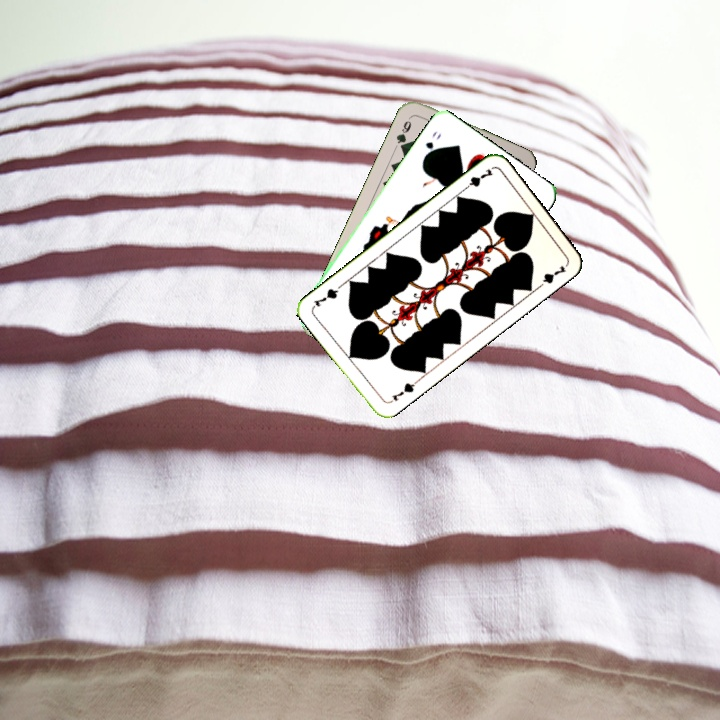G7: (459, 164, 496, 194), (385, 377, 420, 406)
G9: (392, 112, 415, 153)
GO: (420, 127, 444, 162)
